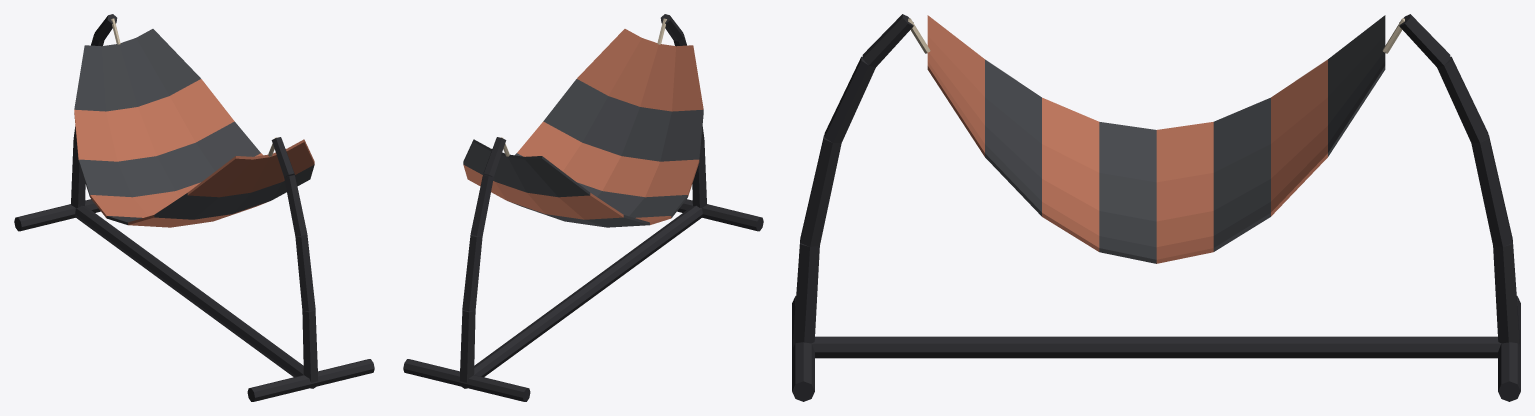
File: FN_Hammock_Stand.glb
The picture shows the model from 3 angles, left to right: view 1: azimuth 30°, elevation 25°; view 2: azimuth 150°, elevation 25°; view 3: azimuth 270°, elevation 25°; orthographic projection. The views are drawn at different scales.
Visible parts, largest first — view 1: FN_Hammock_Stand; view 2: FN_Hammock_Stand; view 3: FN_Hammock_Stand.
Boxes of the visible parts, x1,y1,x2,y2 form: FN_Hammock_Stand: (14, 14, 374, 401); FN_Hammock_Stand: (403, 14, 763, 401); FN_Hammock_Stand: (792, 14, 1520, 401).
Bounding box in the file's own units: 0.94 × 1.15 × 2.23.
1 material, 1 textured.
